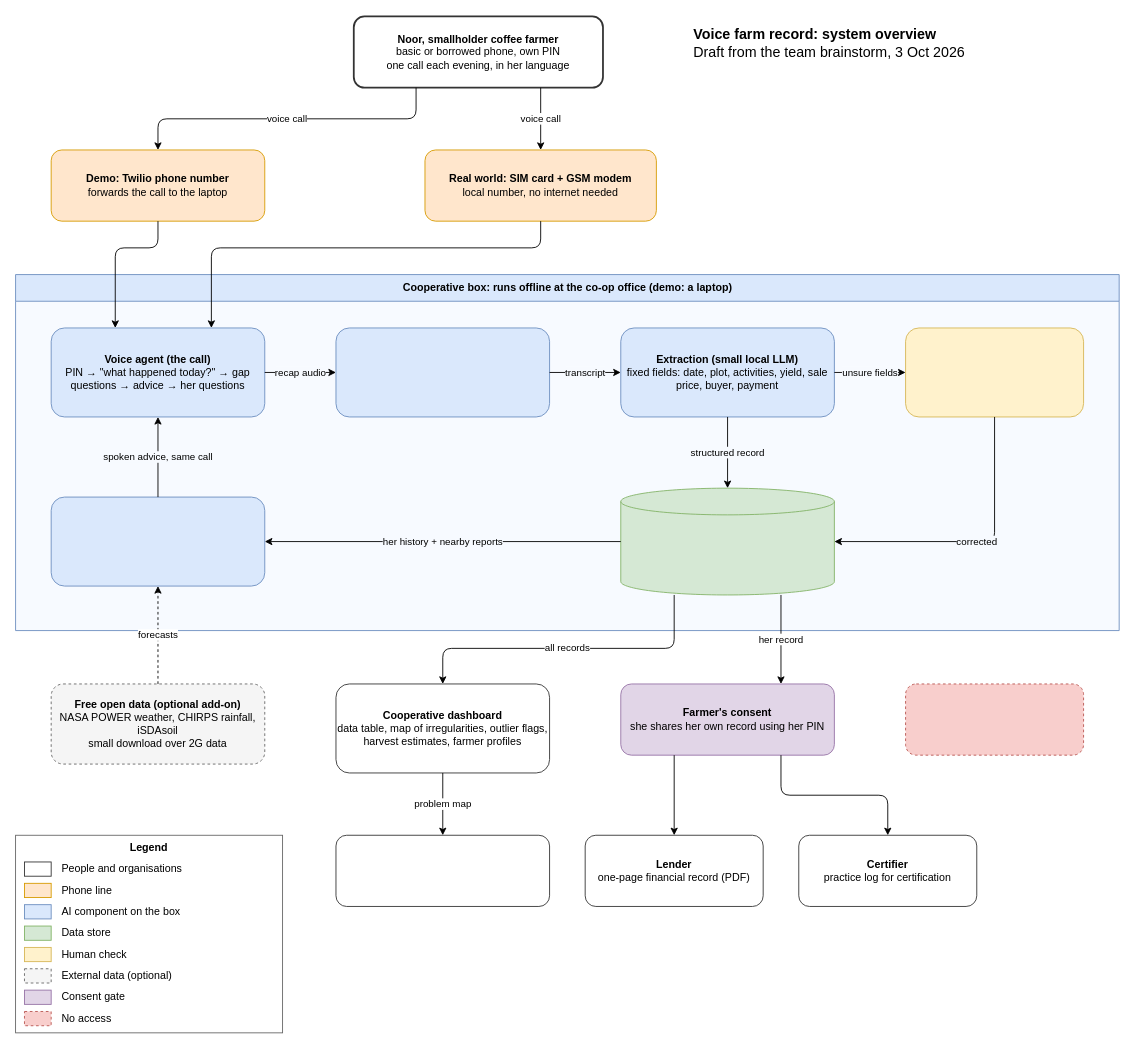
This 1135x1048 diagram has some shape labels left out. The centre of each missing label's shape, as x and y in pixels:
Advice engine weather, rainfall, soil, disease reports nearby, past sale prices: the point at 157,541
Buyers / middlemen no access: the point at 994,719
Expert / extension officer visit priorities from the problem map: the point at 442,870
Farmer records one record per farmer, tied to plot and location: the point at 727,541
Review queue records the AI may have got wrong go to a person: the point at 994,372
Speech-to-text open-source model for the local language (e.g. Meta MMS): the point at 442,372
